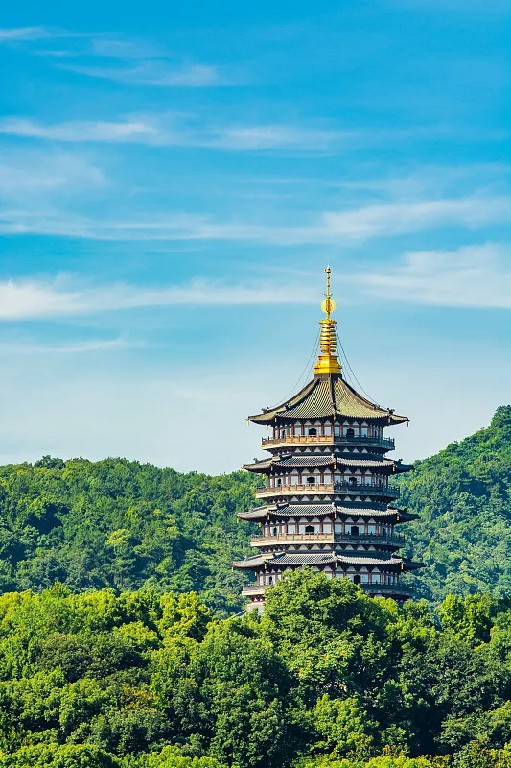Leifeng: (235, 261, 419, 616)
